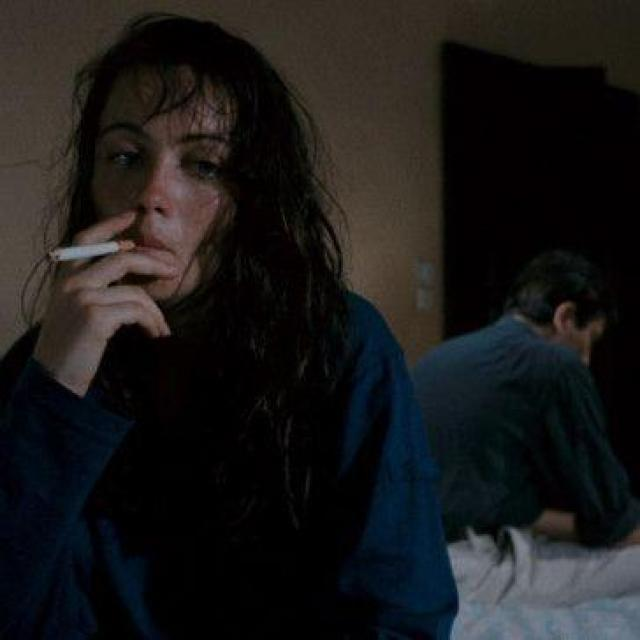cigarette: (30, 217, 126, 260)
